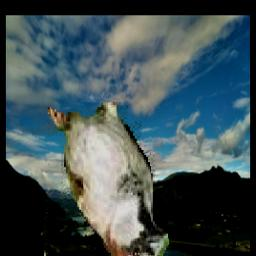Sparrow: (45, 67, 170, 256)
